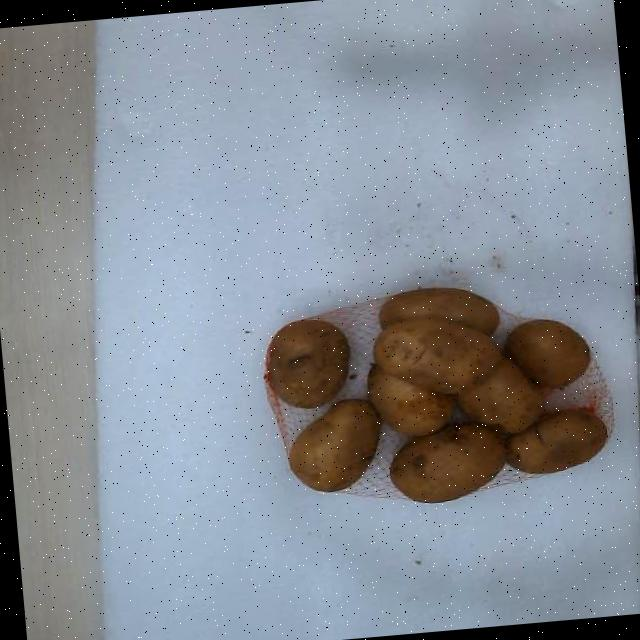potato: (373, 317, 499, 393), (390, 421, 506, 502), (288, 398, 380, 489), (267, 318, 347, 407), (457, 357, 543, 432), (506, 409, 604, 472), (367, 364, 452, 435), (504, 318, 589, 388), (378, 286, 498, 334)
